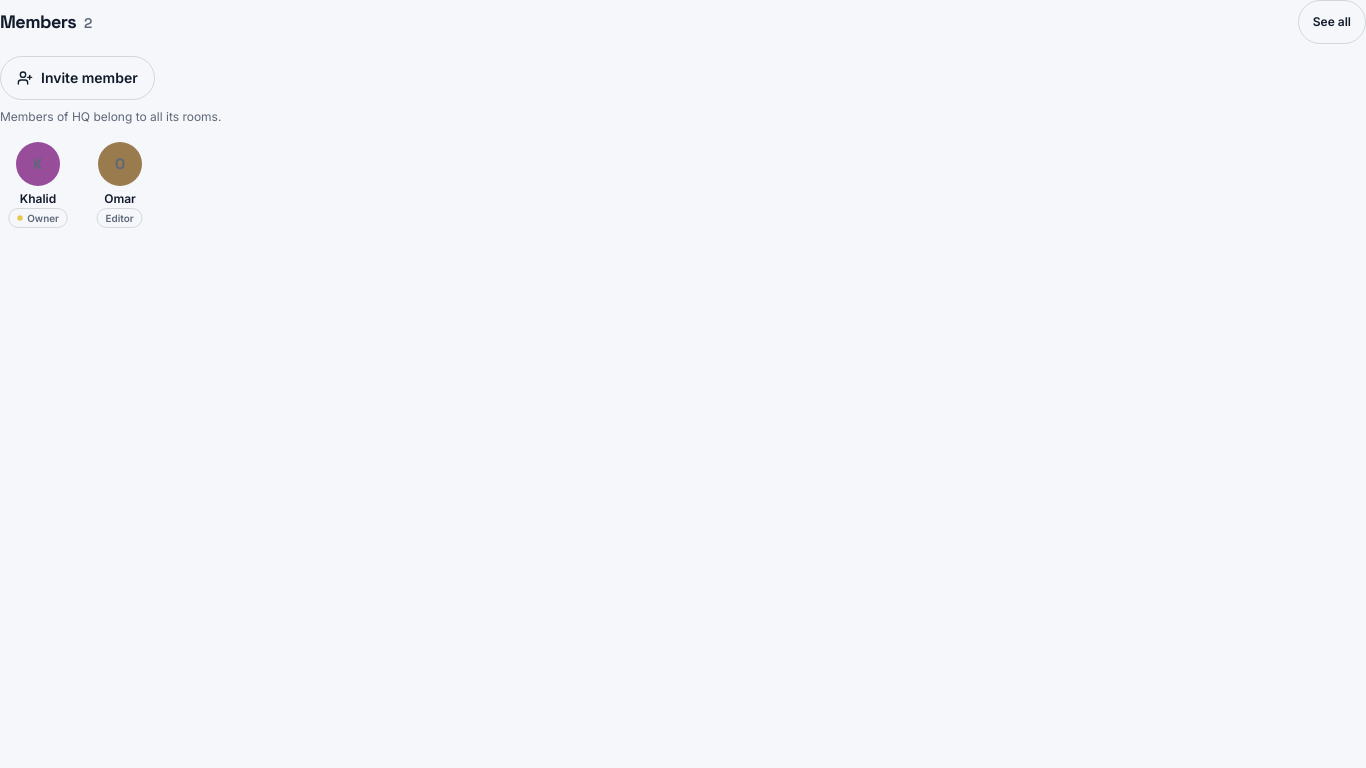
Scenario: leaves the other members as they were: their role pills and both buttons
Click the button "O Omar Editor" at (120, 186), box [82, 138, 158, 233]
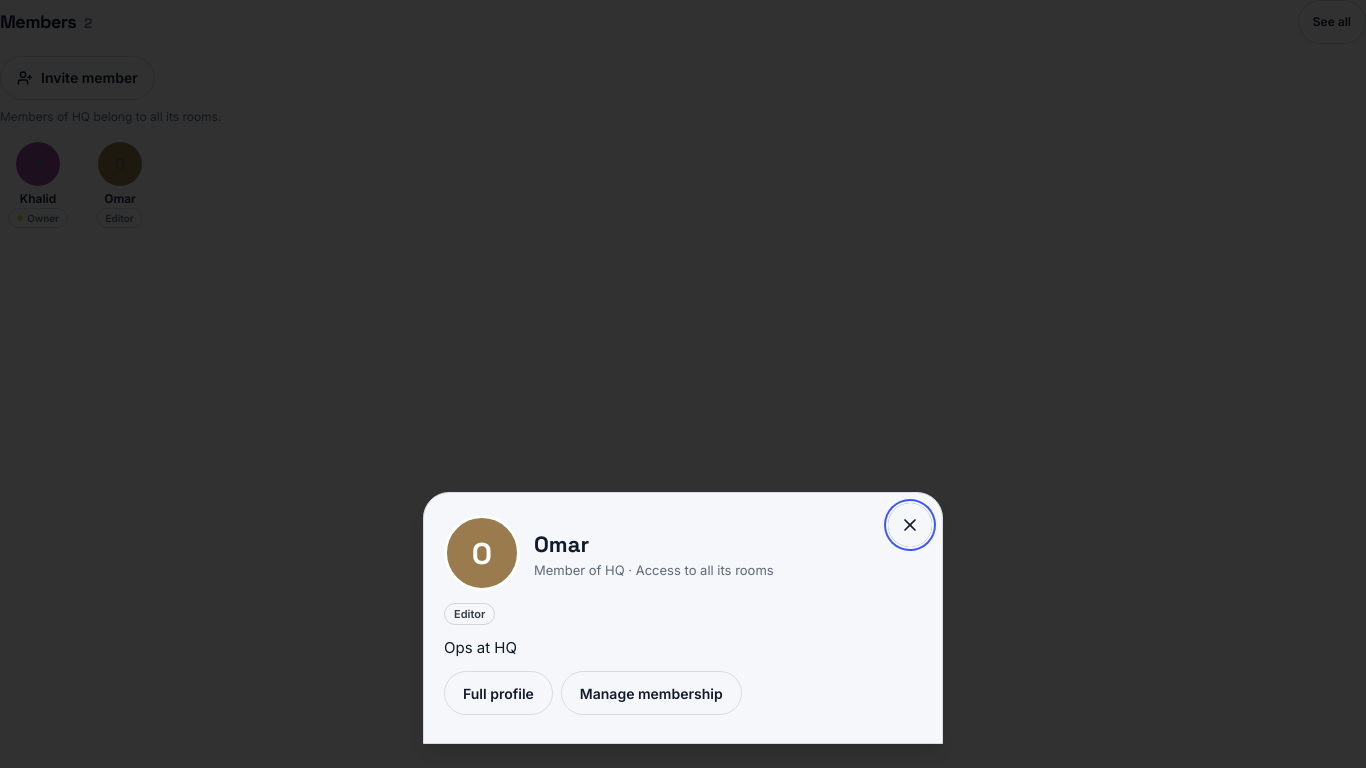
Now the text "Editor" is shown, box [444, 602, 495, 624]
Now the link "Full profile" is shown, box [444, 671, 553, 715]
Now the link "Manage membership" is shown, box [561, 671, 742, 715]
